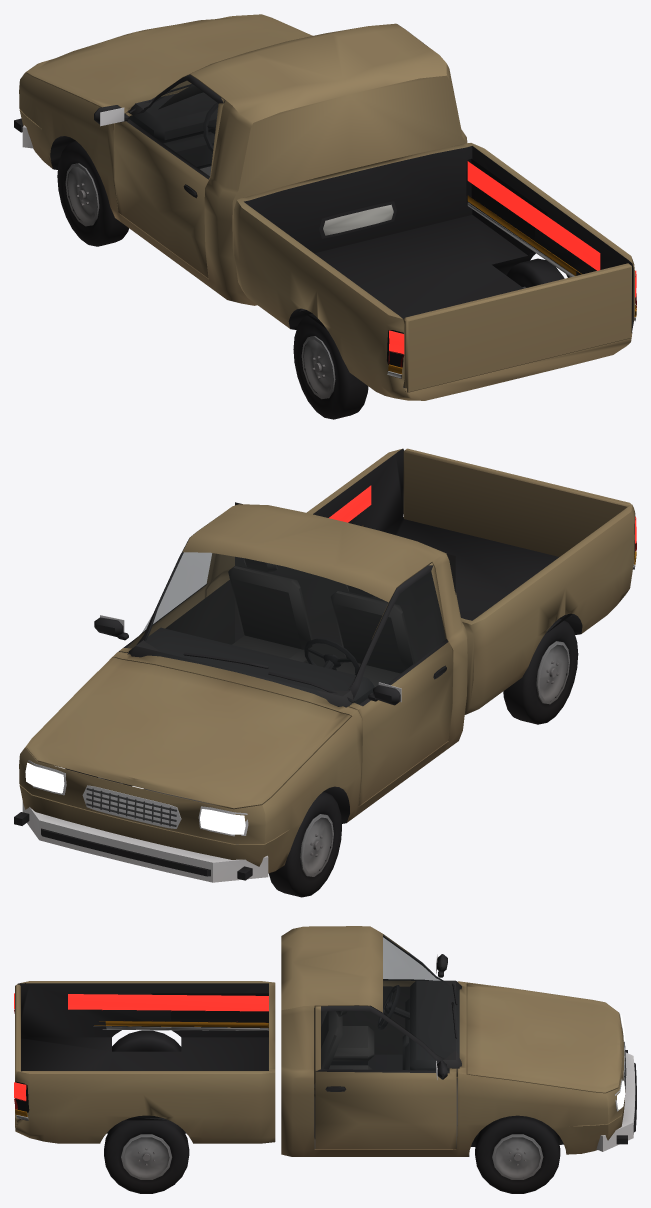
The model's file is parked_car_c.glb.
3 views of the same model, one above another, from view 1: azimuth 30°, elevation 25°; view 2: azimuth 150°, elevation 25°; view 3: azimuth 270°, elevation 25° (orthographic). The views are drawn at different scales.
Parts seen in each view (by area): view 1: parked_car_c_body, wheel_rl, wheel_fl, lamp_tail_r, wheel_rr; view 2: parked_car_c_body, wheel_rl, wheel_fl, lamp_head_l, lamp_head_r, lamp_tail_r; view 3: parked_car_c_body, wheel_fr, wheel_rr, lamp_tail_l, wheel_rl.
Part boxes in pixels (<box>): parked_car_c_body: <box>14,14,636,400</box>; wheel_rl: <box>293,313,368,419</box>; wheel_fl: <box>57,141,128,246</box>; lamp_tail_r: <box>467,161,636,297</box>; wheel_rr: <box>507,258,564,288</box>; parked_car_c_body: <box>14,448,636,882</box>; wheel_rl: <box>503,618,578,724</box>; wheel_fl: <box>268,791,341,897</box>; lamp_head_l: <box>200,809,245,834</box>; lamp_head_r: <box>25,762,64,793</box>; lamp_tail_r: <box>329,485,371,522</box>; parked_car_c_body: <box>14,926,636,1156</box>; wheel_fr: <box>475,1115,560,1193</box>; wheel_rr: <box>104,1118,189,1193</box>; lamp_tail_l: <box>14,993,268,1011</box>; wheel_rl: <box>112,1030,181,1051</box>.
Size of what is drawn, in the model's own units: 2.24 by 1.69 by 5.04.
